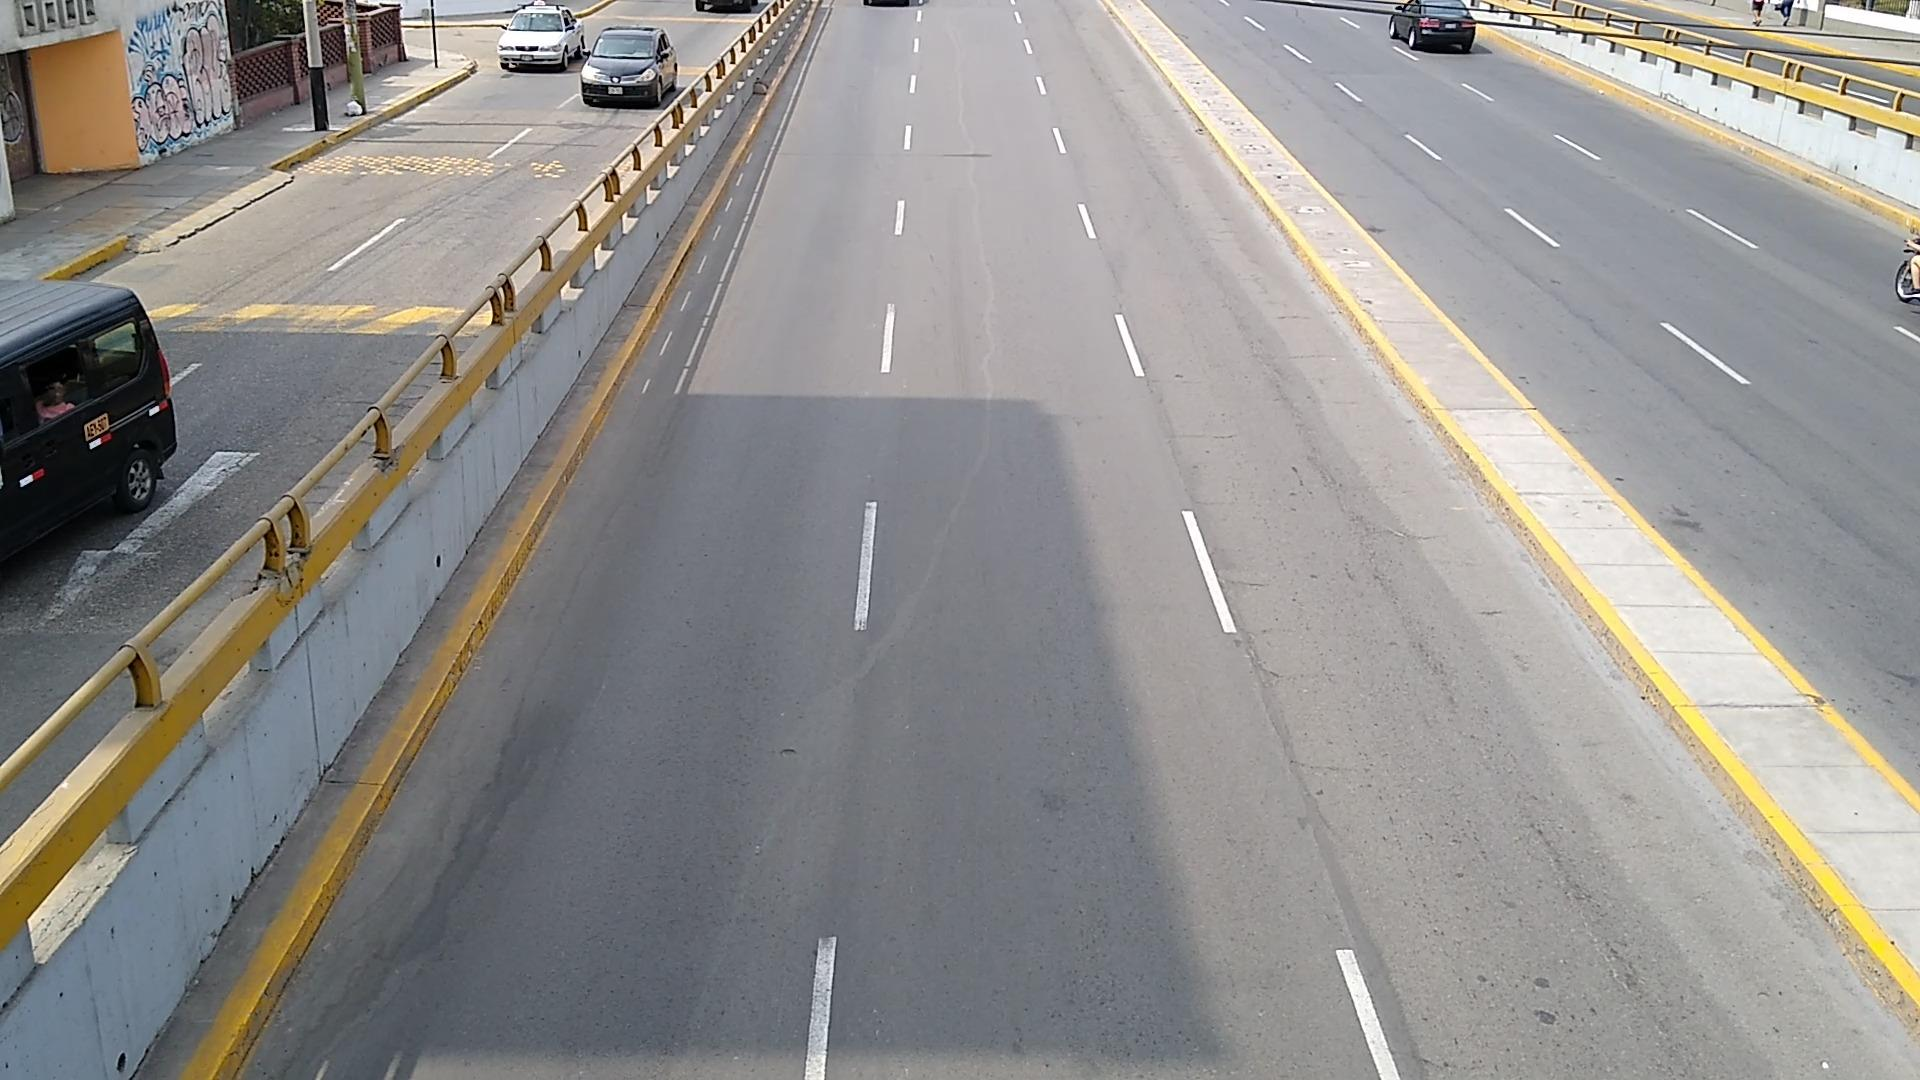car: (0, 281, 177, 556), (582, 26, 679, 105), (498, 4, 585, 70), (1387, 0, 1474, 53)
